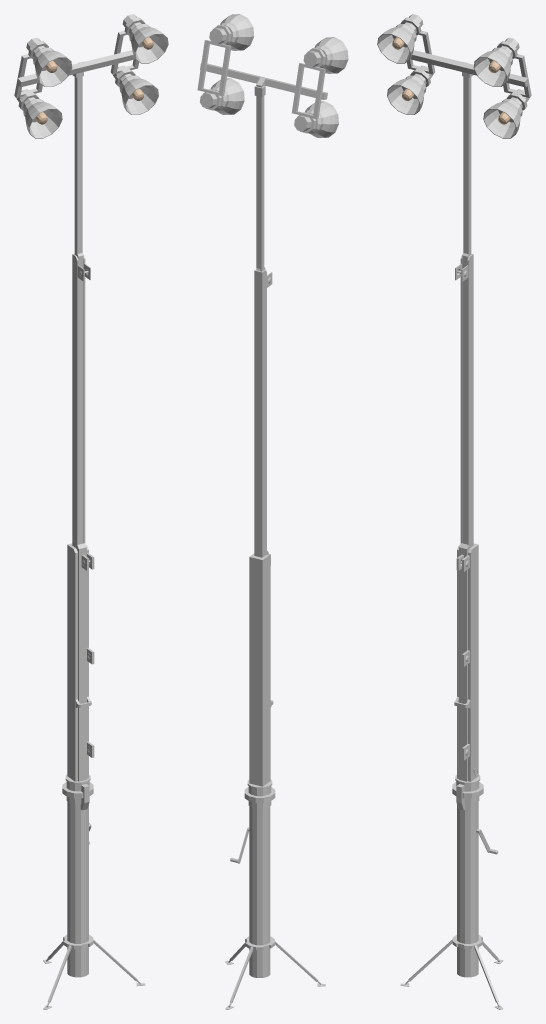
File: SM_Lamp_Post.glb
3 views of the same model, side by side, from view 1: azimuth 30°, elevation 25°; view 2: azimuth 150°, elevation 25°; view 3: azimuth 330°, elevation 25° (orthographic). The views are drawn at different scales.
Visible parts, largest first — view 1: SM_Lamp_Post; view 2: SM_Lamp_Post; view 3: SM_Lamp_Post.
Boxes of the visible parts, bbox=[...] form: SM_Lamp_Post: bbox=[14, 14, 168, 1009]; SM_Lamp_Post: bbox=[197, 14, 348, 1009]; SM_Lamp_Post: bbox=[377, 14, 531, 1009].
Bounding box in the file's own units: 0.9412 × 6.66 × 0.7789.
